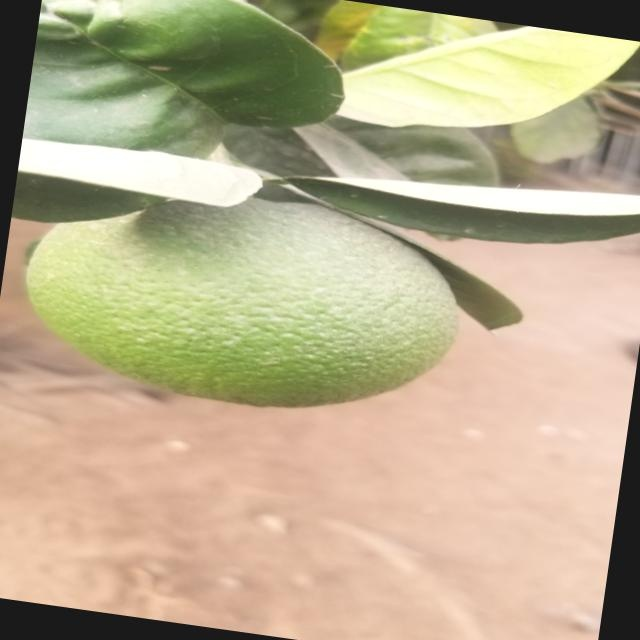agrume: (14, 175, 474, 428)
